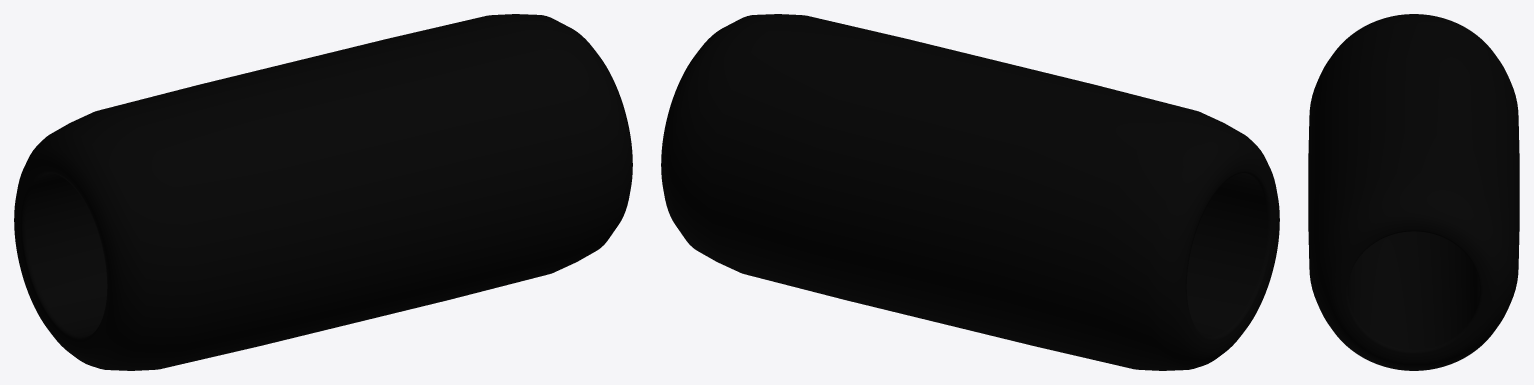
File: tirel.fbx
3 renders of one model, left to right at view 1: azimuth 30°, elevation 25°; view 2: azimuth 150°, elevation 25°; view 3: azimuth 270°, elevation 25°, orthographic. The views are drawn at different scales.
Visible parts, largest first — view 1: tirel; view 2: tirel; view 3: tirel.
Part boxes in pixels (x1,y1,x2,y2): tirel: [14, 14, 632, 370]; tirel: [661, 14, 1279, 370]; tirel: [1308, 14, 1519, 370].
Bounding box in the file's own units: 1.01 × 0.4495 × 0.4495.
2 materials, 2 textured.
